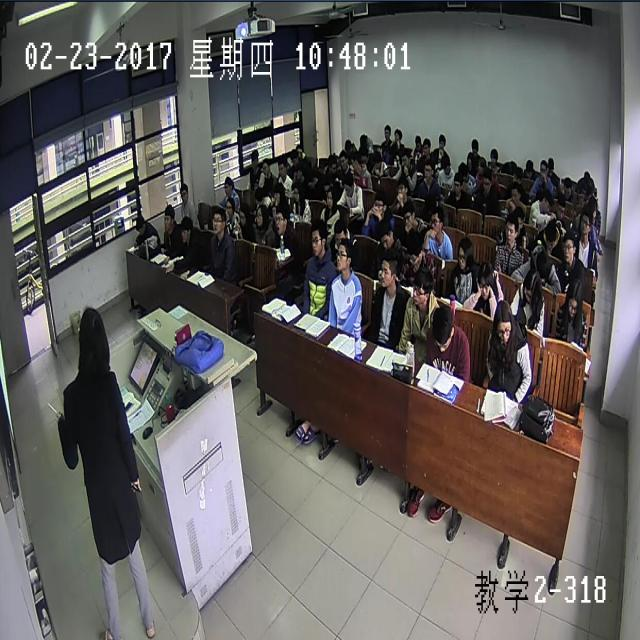person: (75, 306, 111, 377), (433, 308, 455, 356), (520, 267, 542, 309), (565, 276, 584, 324), (494, 300, 514, 344), (412, 265, 433, 306), (379, 252, 399, 290), (310, 218, 328, 260), (475, 261, 493, 303), (334, 237, 354, 274), (404, 233, 424, 267), (456, 236, 473, 270), (331, 219, 347, 253), (533, 246, 548, 278), (378, 220, 394, 249), (503, 214, 518, 244), (542, 220, 557, 250), (161, 204, 175, 234), (430, 206, 443, 238), (424, 189, 438, 217), (563, 233, 576, 263), (210, 208, 224, 235), (373, 192, 387, 219), (180, 215, 193, 244), (403, 203, 416, 232), (274, 206, 286, 237), (236, 202, 249, 228), (536, 190, 550, 214), (512, 204, 524, 231), (224, 195, 236, 221), (254, 204, 267, 228), (537, 154, 549, 180), (554, 195, 566, 221), (480, 170, 492, 194), (325, 184, 336, 210), (451, 169, 462, 195), (252, 185, 265, 206), (134, 214, 145, 238), (274, 180, 285, 204), (350, 151, 361, 175), (396, 178, 407, 202), (580, 212, 590, 238), (343, 172, 354, 195), (440, 153, 451, 175), (421, 160, 433, 180), (511, 164, 523, 184), (259, 155, 270, 176), (308, 166, 319, 187), (400, 147, 410, 169), (509, 185, 520, 205), (476, 157, 487, 177), (457, 158, 467, 180), (561, 176, 572, 196), (588, 198, 598, 220), (487, 148, 499, 166), (322, 177, 333, 196), (179, 183, 189, 203), (222, 174, 232, 194), (328, 152, 338, 172), (582, 181, 592, 201), (317, 154, 328, 172), (343, 136, 354, 154), (372, 148, 381, 170), (524, 156, 533, 178), (248, 150, 258, 169), (292, 181, 302, 200), (372, 140, 382, 159), (464, 151, 474, 170), (293, 161, 303, 179), (338, 150, 347, 170), (358, 130, 368, 148), (382, 122, 391, 140), (438, 132, 447, 150), (288, 148, 298, 164), (359, 146, 369, 162), (413, 132, 421, 152), (581, 168, 590, 185), (422, 137, 430, 156), (470, 134, 478, 153), (278, 157, 286, 175), (294, 142, 303, 158), (392, 126, 402, 140), (546, 154, 553, 174), (506, 157, 516, 170)
